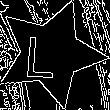L_N: (32, 28, 69, 80)
